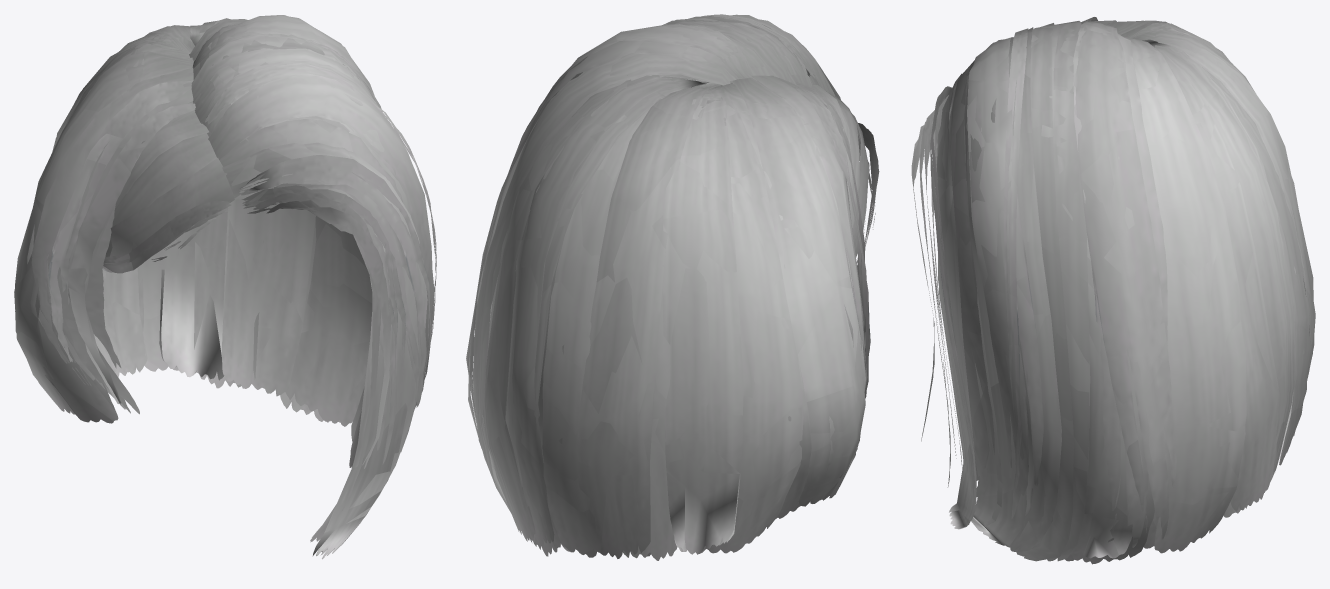
File: bobhair.glb
3 renders of one model, left to right at view 1: azimuth 30°, elevation 25°; view 2: azimuth 150°, elevation 25°; view 3: azimuth 270°, elevation 25°, orthographic. The views are drawn at different scales.
Visible parts, largest first — view 1: Object_18; view 2: Object_18; view 3: Object_18.
Part boxes in pixels (left/top/right/bottom): Object_18: left=14, top=15, right=436, bottom=559; Object_18: left=466, top=14, right=879, bottom=560; Object_18: left=911, top=17, right=1315, bottom=564.
Size of the model in its own units: 0.8053 by 1.04 by 0.749.
1 material, 1 textured.
